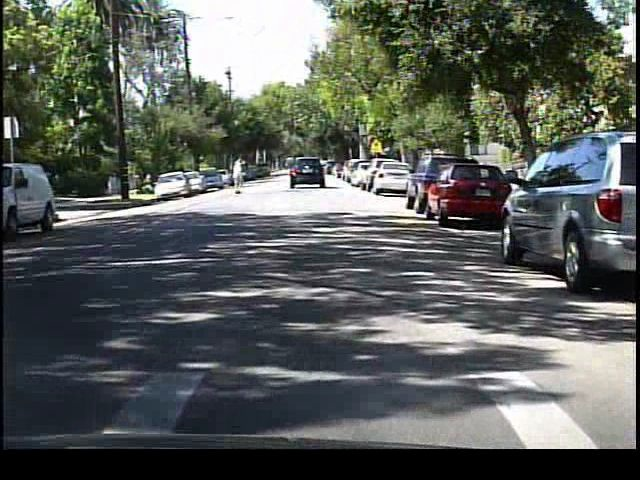person: (228, 153, 251, 197)
